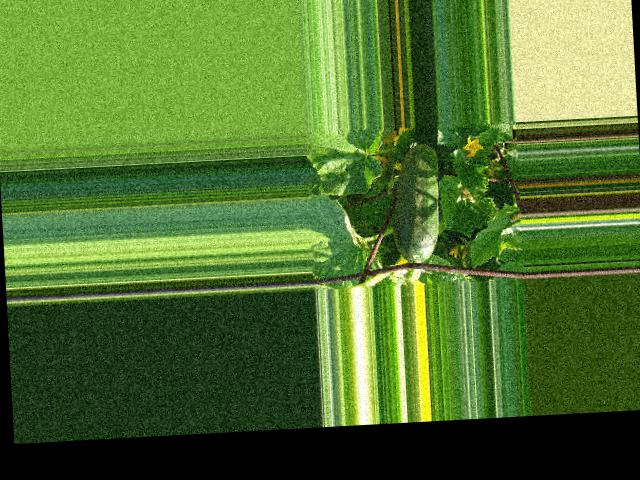cucumber: (386, 142, 443, 263)
